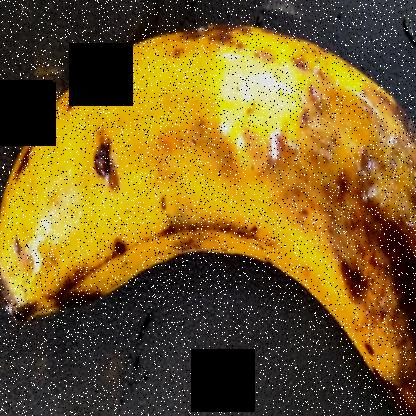overripe: (0, 9, 274, 331)
rotten: (217, 30, 415, 415)
